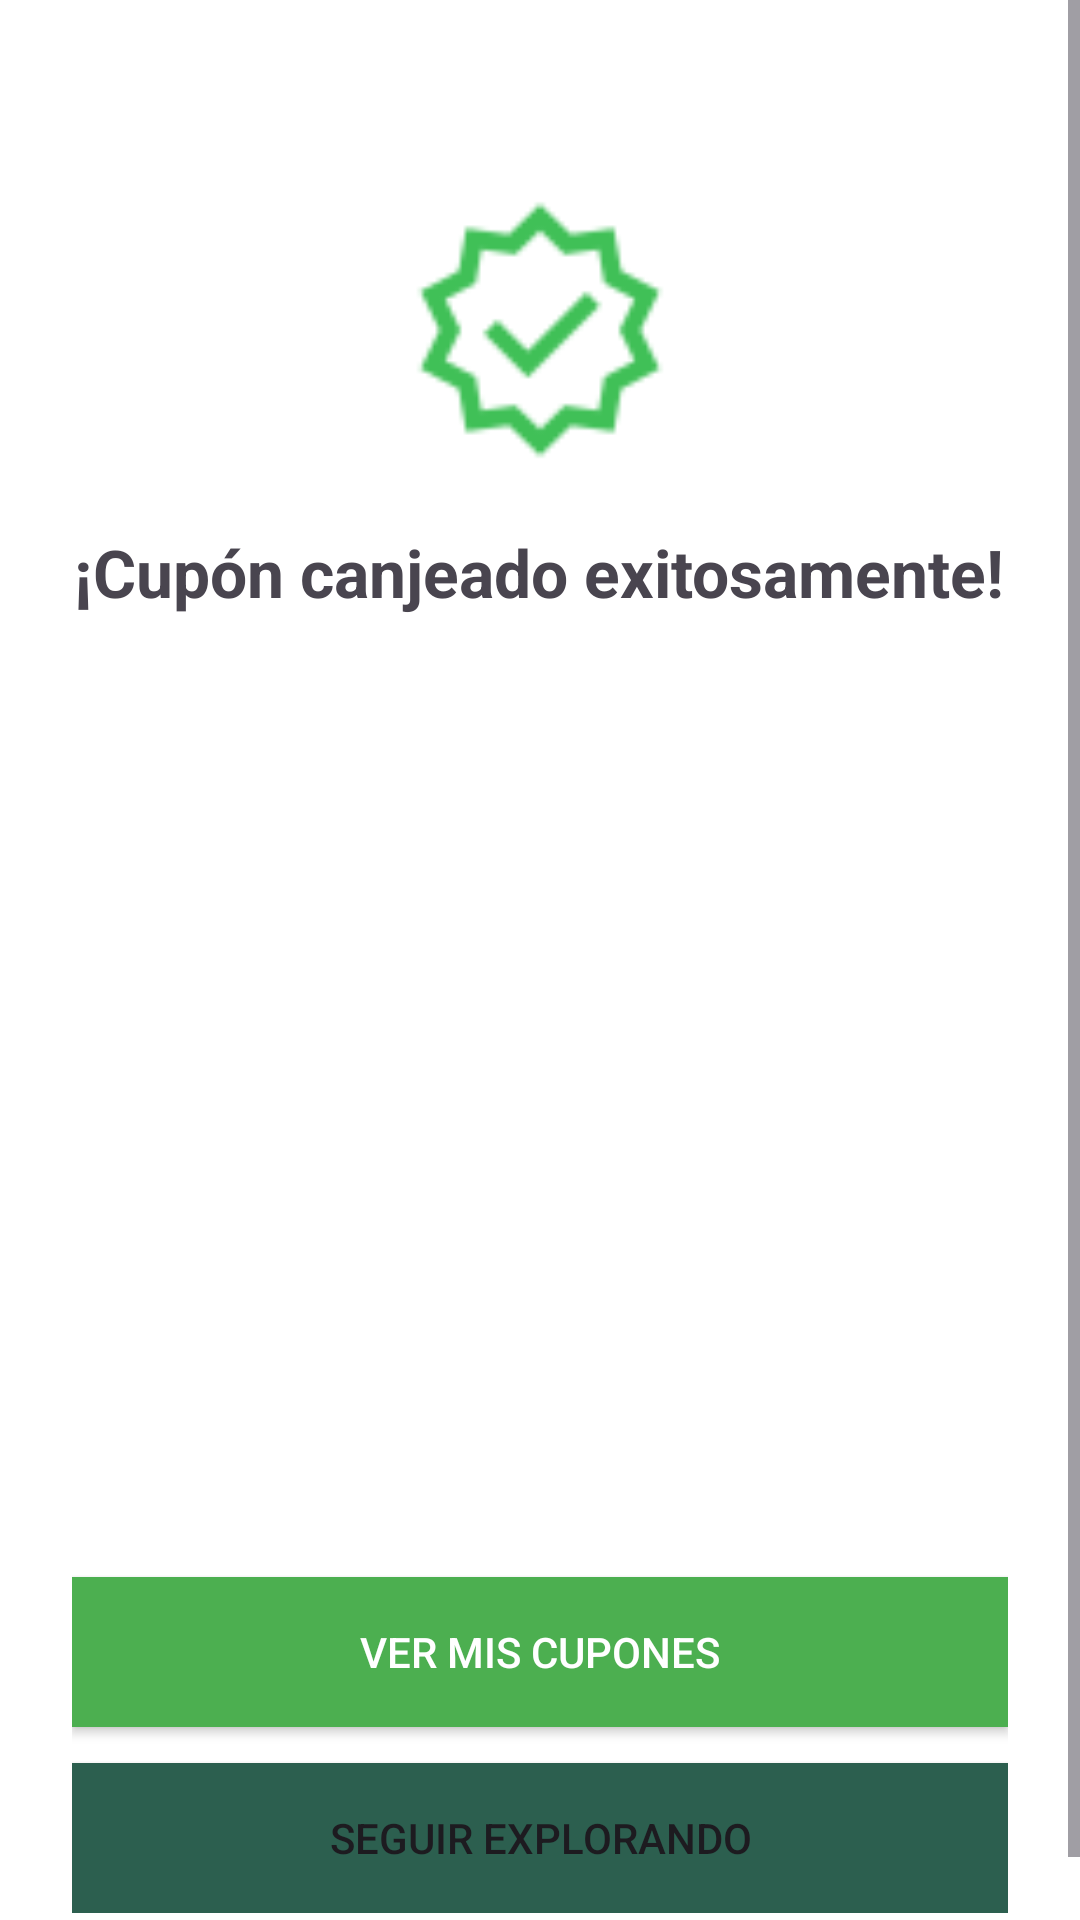

Named icons in this screenshot (1080x1920) and their centers, [x,y]:
check: [540,330]
